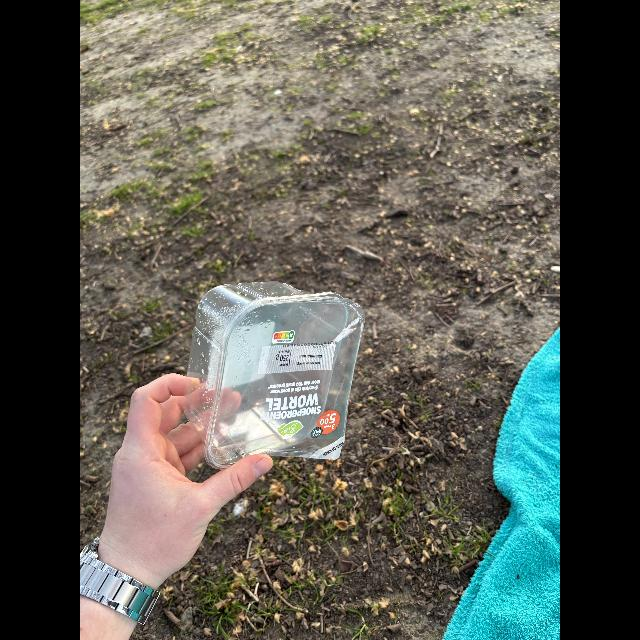Plastic: (187, 280, 361, 472)
